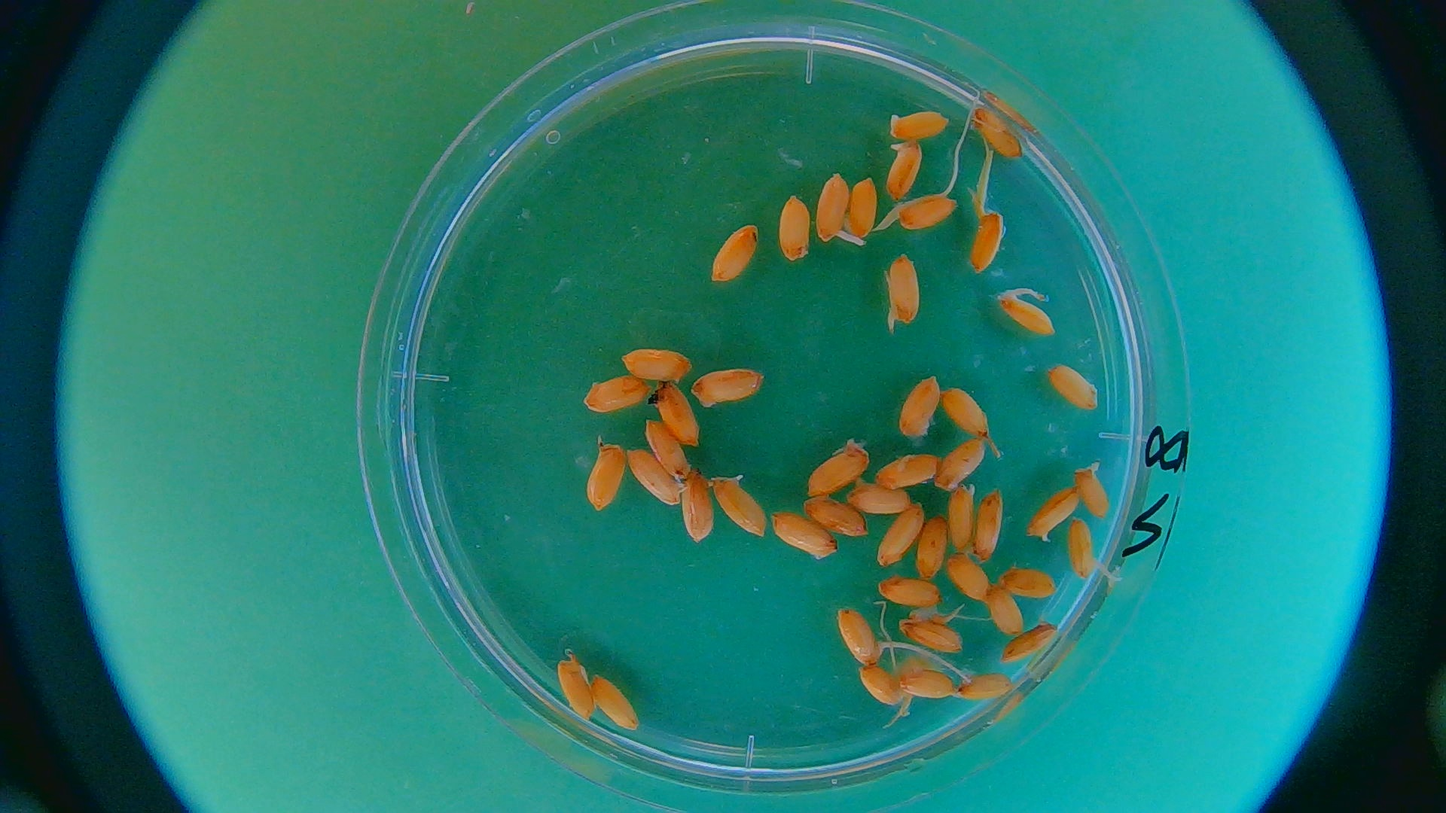no: (626, 445, 688, 508), (712, 471, 770, 537), (809, 434, 870, 495), (769, 510, 838, 561), (648, 380, 698, 446), (996, 618, 1063, 667), (971, 101, 1026, 160), (691, 366, 764, 410), (895, 374, 944, 439), (711, 219, 759, 285), (1027, 487, 1082, 544), (590, 672, 642, 731), (587, 436, 625, 515), (876, 504, 924, 566), (938, 383, 993, 437), (874, 451, 942, 492), (936, 436, 986, 491), (648, 417, 691, 480), (802, 496, 867, 537), (621, 347, 695, 383), (1045, 363, 1100, 410), (584, 376, 652, 413), (682, 470, 716, 541), (916, 513, 952, 580), (847, 478, 912, 515), (559, 651, 593, 721), (1072, 461, 1112, 520), (887, 138, 923, 202), (945, 553, 992, 600), (975, 484, 1003, 562), (984, 584, 1025, 635), (779, 195, 811, 260), (948, 483, 978, 552), (847, 172, 877, 241), (889, 109, 951, 142), (876, 577, 944, 606), (955, 671, 1014, 702), (999, 568, 1058, 599), (860, 664, 904, 703)
yes: (816, 171, 861, 245), (993, 290, 1056, 337), (1068, 519, 1117, 579), (833, 607, 883, 665), (886, 254, 920, 333), (969, 201, 1005, 272), (902, 612, 964, 653), (893, 195, 961, 231), (895, 669, 955, 705)
